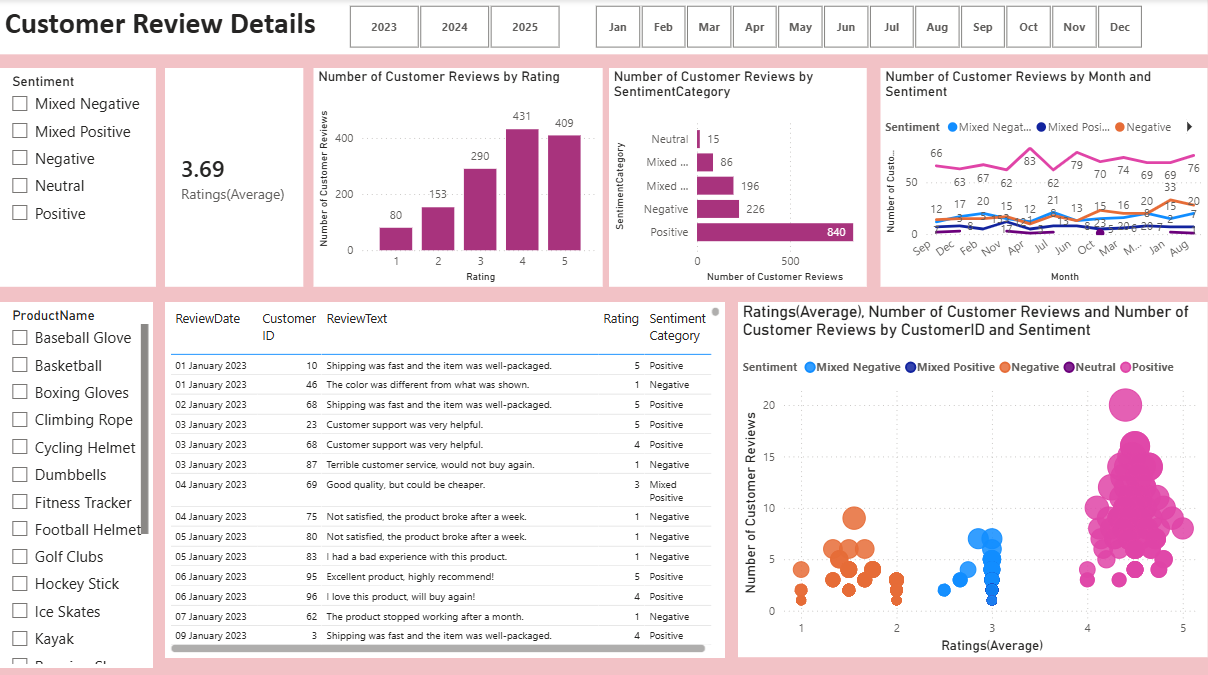

The dashboard page shown, as its layout file describes it:
{"tool":"powerbi","page":{"name":"Customer Review Details.","canvas":[1280,720],"ordinal":3},"visuals":[{"type":"textbox","box":[0,0,1280.4,58.9],"z":0},{"type":"slicer","fields":{"Values":["products_dim.ProductName"]},"box":[0,321.3,162.2,388.1],"z":1000},{"type":"cardVisual","fields":{"Data":["_Calculations.Ratings(Avg)"]},"box":[175,73.2,146.3,232.2],"z":2000},{"type":"slicer","fields":{"Values":["Calendar.Year"]},"box":[345,0,272.2,58.2],"z":3000},{"type":"slicer","fields":{"Values":["Calendar.MonthNameShort"]},"box":[605.5,0,628.8,58.2],"z":4000},{"type":"clusteredColumnChart","fields":{"Category":["customer_reviews_with_sentiment.Rating"],"Y":["_Calculations.Number of Customer Reviews"]},"box":[332.4,73.2,307,232.2],"z":5000},{"type":"clusteredBarChart","fields":{"Category":["customer_reviews_with_sentiment.SentimentCategory"],"Y":["_Calculations.Number of Customer Reviews"]},"box":[645.8,73.2,273.6,232.2],"z":6000},{"type":"lineChart","fields":{"Category":["Calendar.MonthNameShort"],"Series":["customer_reviews_with_sentiment.SentimentCategory"],"Y":["_Calculations.Number of Customer Reviews"]},"box":[933.7,73.2,346.8,232.2],"z":7000},{"type":"tableEx","fields":{"Values":["customer_reviews_with_sentiment.ReviewDate","customer_reviews_with_sentiment.CustomerID","customer_reviews_with_sentiment.ReviewText","customer_reviews_with_sentiment.Rating","customer_reviews_with_sentiment.SentimentCategory"]},"box":[175,321.3,593.3,377],"z":8000},{"type":"scatterChart","fields":{"Category":["customers_dim.CustomerID"],"Series":["customer_reviews_with_sentiment.SentimentCategory"],"Size":["_Calculations.Number of Customer Reviews"],"X":["_Calculations.Ratings(Average)"],"Y":["_Calculations.Number of Customer Reviews"]},"box":[782.6,321.3,497.9,377],"z":9000},{"type":"slicer","fields":{"Values":["customer_reviews_with_sentiment.SentimentCategory"]},"box":[0,73.2,165.4,232.2],"z":10000}]}

Visuals, with their boxes in screenshot pixels (x1, y1, x2, y2), scaled from the page's 1280x720 canvas onto the 1208x675 screenshot:
textbox: 0 0 1207 55
slicer - products_dim.ProductName: 0 301 153 665
cardVisual - _Calculations.Ratings(Avg): 165 69 303 286
slicer - Calendar.Year: 326 0 582 55
slicer - Calendar.MonthNameShort: 571 0 1165 55
clusteredColumnChart - customer_reviews_with_sentiment.Rating x _Calculations.Number of Customer Reviews: 314 69 603 286
clusteredBarChart - customer_reviews_with_sentiment.SentimentCategory x _Calculations.Number of Customer Reviews: 609 69 868 286
lineChart - Calendar.MonthNameShort x customer_reviews_with_sentiment.SentimentCategory: 881 69 1207 286
tableEx - customer_reviews_with_sentiment.ReviewDate x customer_reviews_with_sentiment.CustomerID: 165 301 725 655
scatterChart - customers_dim.CustomerID x customer_reviews_with_sentiment.SentimentCategory: 739 301 1207 655
slicer - customer_reviews_with_sentiment.SentimentCategory: 0 69 156 286
